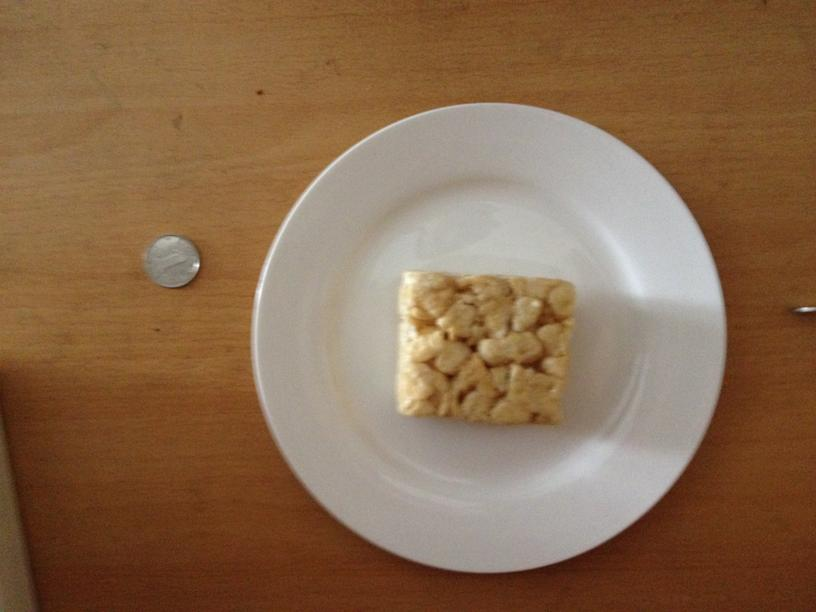coin: (144, 233, 200, 289)
sachima: (387, 269, 572, 426)
